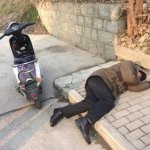falling: (46, 56, 150, 141)
